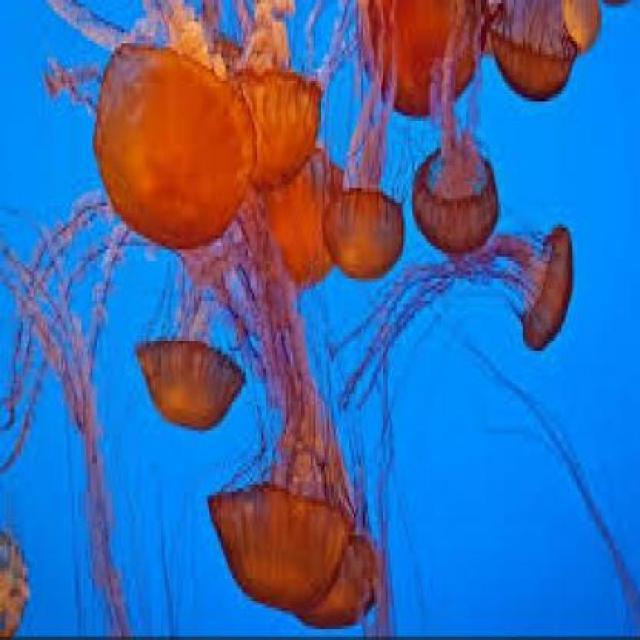Jellyfish: (76, 13, 255, 246), (206, 438, 352, 600), (325, 90, 403, 282), (408, 109, 498, 254), (132, 306, 246, 419), (493, 199, 573, 355), (232, 54, 322, 192)
